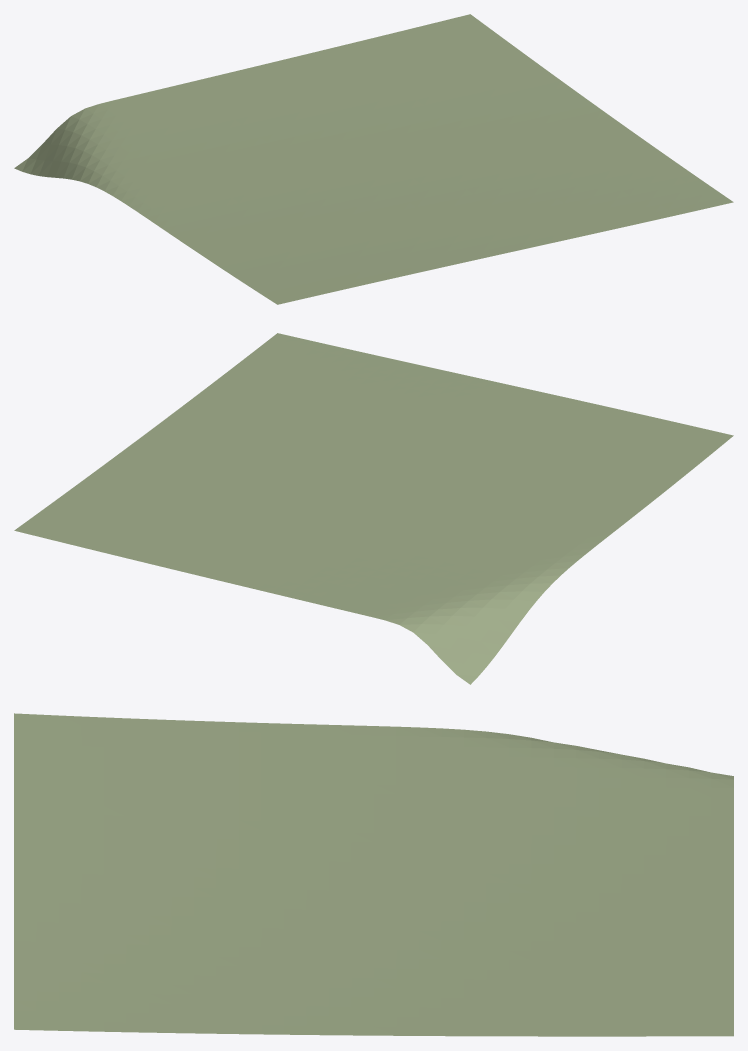
Rendered from lunar-5-2.glb.
3 views of the same model, one above another, from view 1: azimuth 30°, elevation 25°; view 2: azimuth 150°, elevation 25°; view 3: azimuth 270°, elevation 25° (orthographic). The views are drawn at different scales.
Visible parts, largest first — view 1: lunar-5-2; view 2: lunar-5-2; view 3: lunar-5-2.
Part boxes in pixels (x1,y1,x2,y2): lunar-5-2: (14, 14, 733, 304); lunar-5-2: (14, 333, 733, 684); lunar-5-2: (14, 713, 733, 1036).
Size of the model in its own units: 128 by 15.12 by 128.
